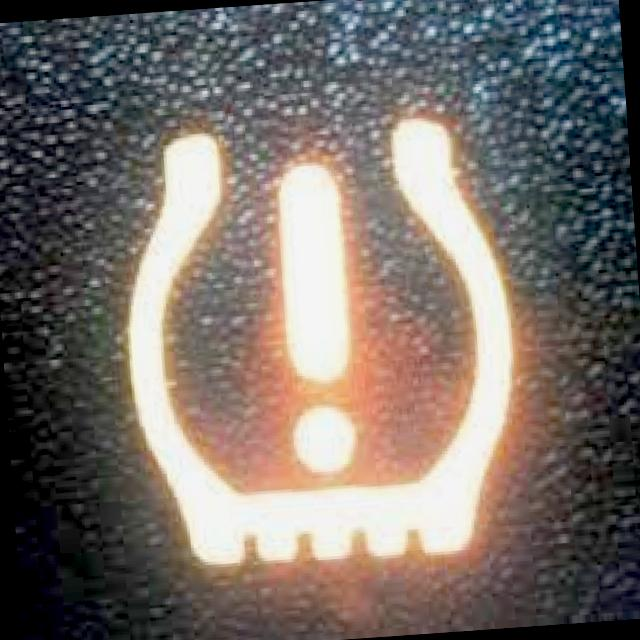kontrolka: (87, 86, 546, 570)
